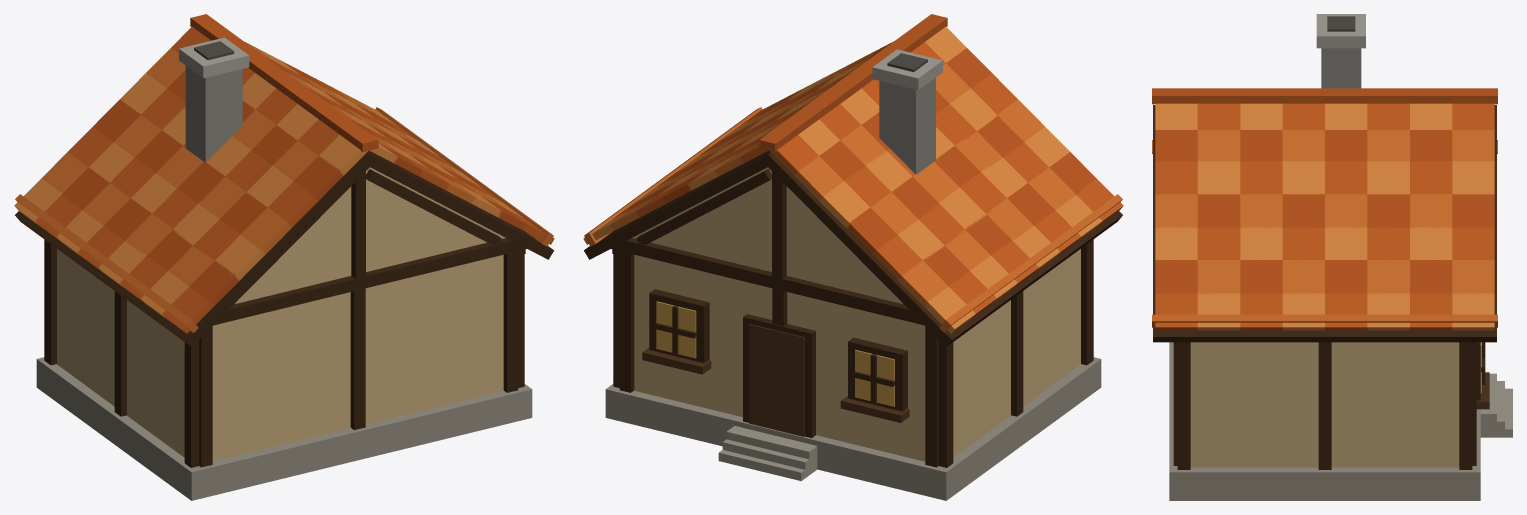
Rendered from cottage.glb.
The picture shows the model from 3 angles, left to right: view 1: azimuth 30°, elevation 25°; view 2: azimuth 150°, elevation 25°; view 3: azimuth 270°, elevation 25°; orthographic projection.
Visible parts, largest first — view 1: cottage; view 2: cottage; view 3: cottage.
Part boxes in pixels (bbox=[...]): cottage: bbox=[14, 14, 554, 500]; cottage: bbox=[583, 14, 1123, 500]; cottage: bbox=[1152, 14, 1512, 500].
Size of the model in its own units: 9.25 by 8.62 by 7.74.
